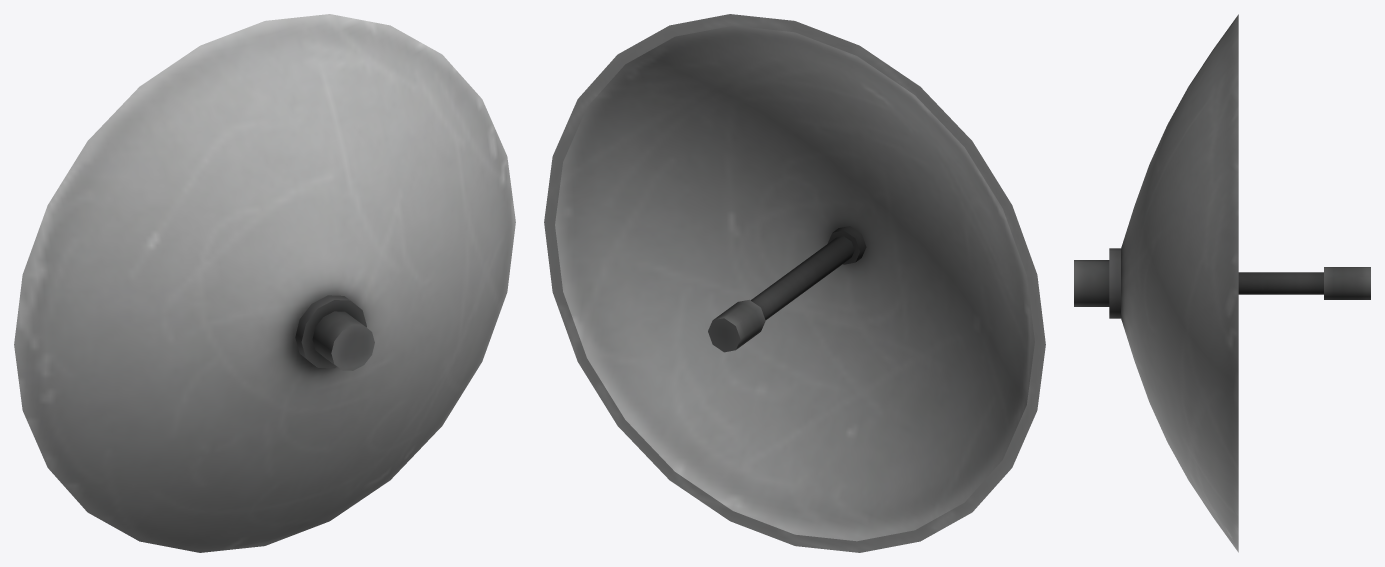
The model's file is vela_antenna_srf_1.obj.
3 renders of one model, left to right at view 1: azimuth 30°, elevation 25°; view 2: azimuth 150°, elevation 25°; view 3: azimuth 270°, elevation 25°, orthographic. The views are drawn at different scales.
Parts seen in each view (by area): view 1: vela_antenna_srf_1; view 2: vela_antenna_srf_1; view 3: vela_antenna_srf_1.
Part boxes in pixels (x1,y1,x2,y2): vela_antenna_srf_1: [14, 14, 515, 552]; vela_antenna_srf_1: [544, 14, 1045, 552]; vela_antenna_srf_1: [1074, 14, 1370, 552].
Size of the model in its own units: 0.575 by 0.575 by 0.3155.
